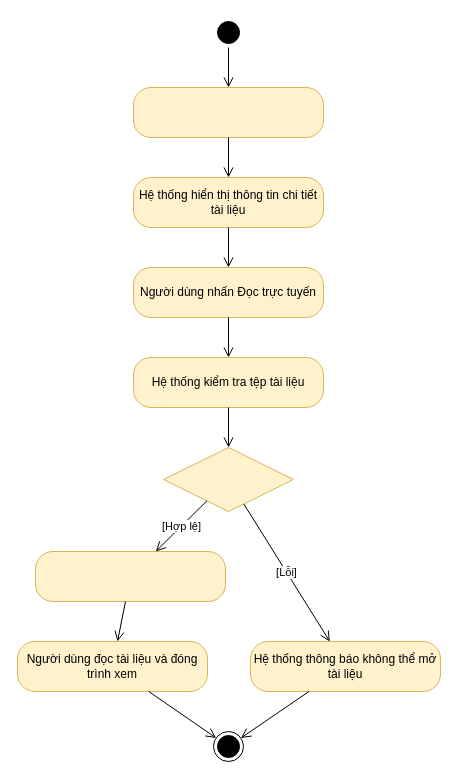
Some shapes in this 458 by 779 pixel diagram are drawn without their labels. The centre of each missing label's shape, as x and y in pixels:
Hệ thống mở trình xem và hiển thị nội dung: the point at 130,576
Người dùng chọn tài liệu điện tử trong kết quả: the point at 228,112
Tệp hợp lệ?: the point at 228,479
